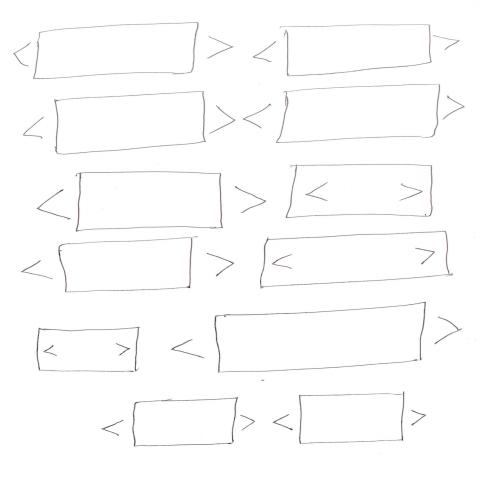Carousel: (169, 300, 463, 372), (35, 170, 268, 232), (241, 83, 465, 144), (22, 90, 235, 154), (11, 21, 234, 79), (19, 236, 235, 293), (259, 230, 451, 288), (251, 24, 460, 76), (285, 163, 433, 219), (272, 392, 426, 444), (100, 396, 255, 447), (34, 326, 140, 372)
